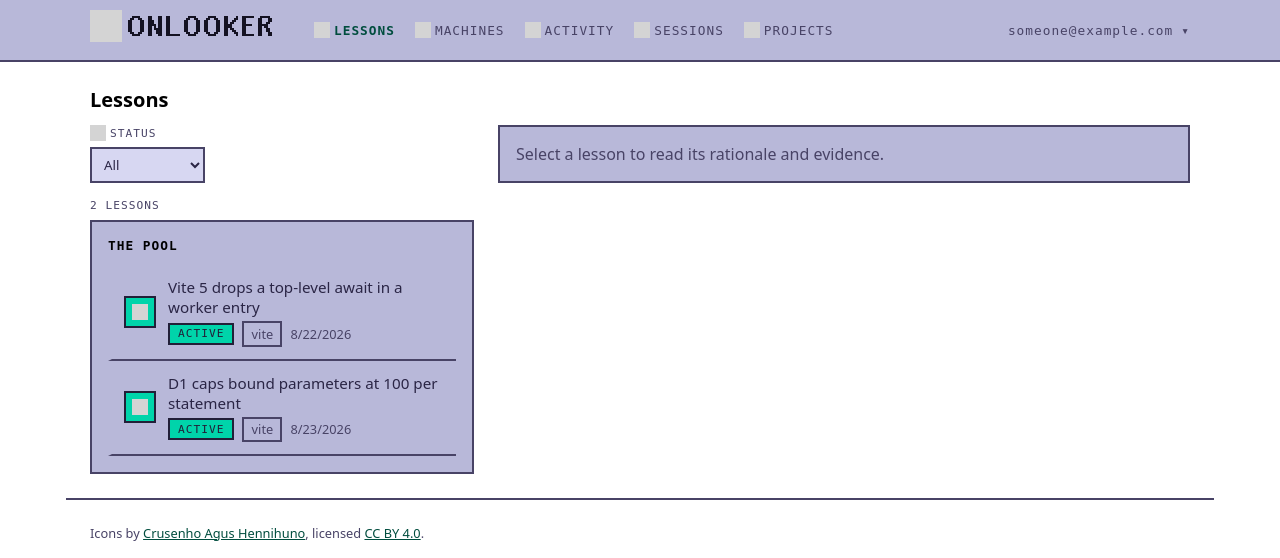
Scenario: concurrent filter changes › keeps the list in step with the last filter asked, not the last one to answer
Expected: the text "Vite 5 drops a top-level await in a worker entry" is shown, x1=168 y1=277 x2=402 y2=317
Step 1. Select "Active" in the dropdown labelled "Status" → (148, 165), box x1=90 y1=147 x2=205 y2=183
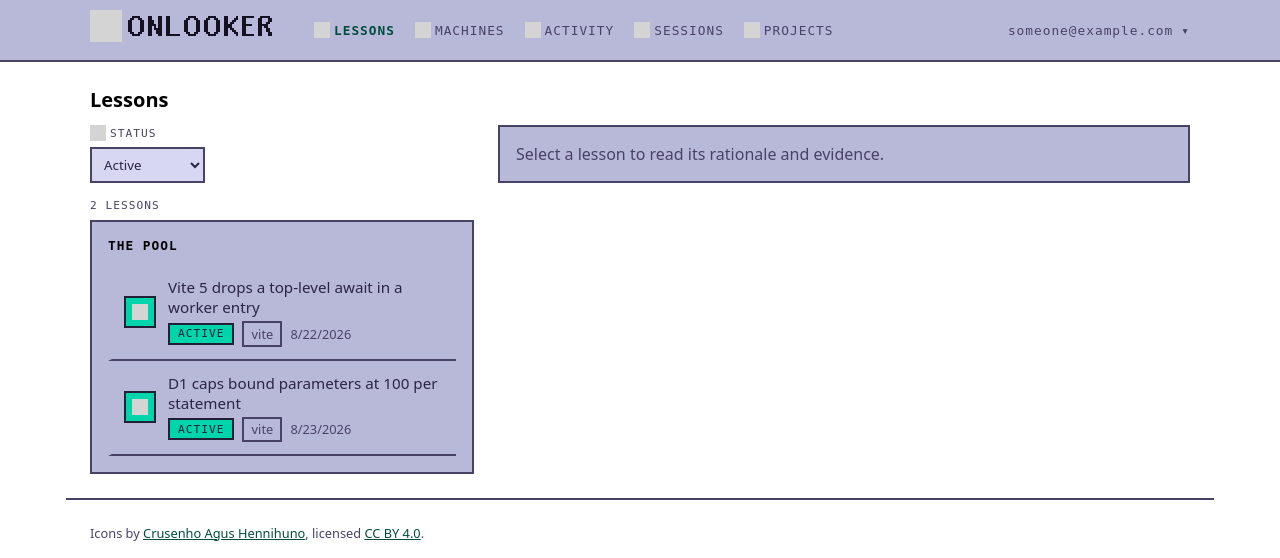
Step 2. Select "Retracted" in the dropdown labelled "Status" → (148, 165), box x1=90 y1=147 x2=205 y2=183
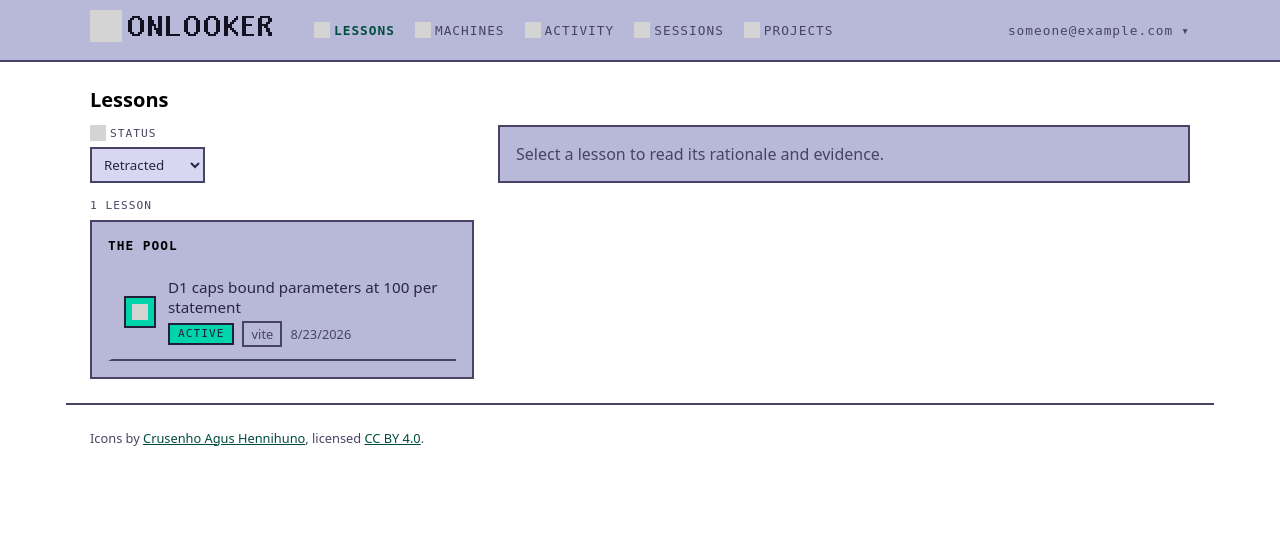
Expected: the text "D1 caps bound parameters at 100 per statement" is shown, x1=168 y1=277 x2=444 y2=317
Expected: the link "Vite 5 drops a top-level await in a worker entry" is gone
